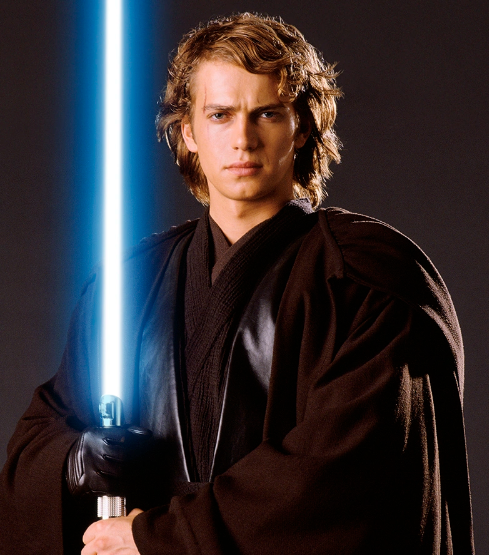lightsaber: (95, 4, 129, 425)
